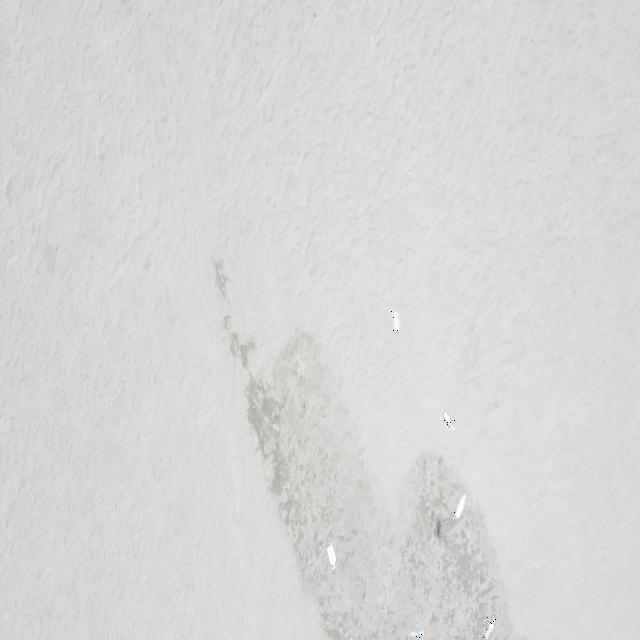Garbage: (453, 493, 464, 517), (484, 617, 495, 639), (443, 410, 453, 430), (327, 544, 335, 568), (392, 310, 399, 331), (412, 628, 422, 636)
